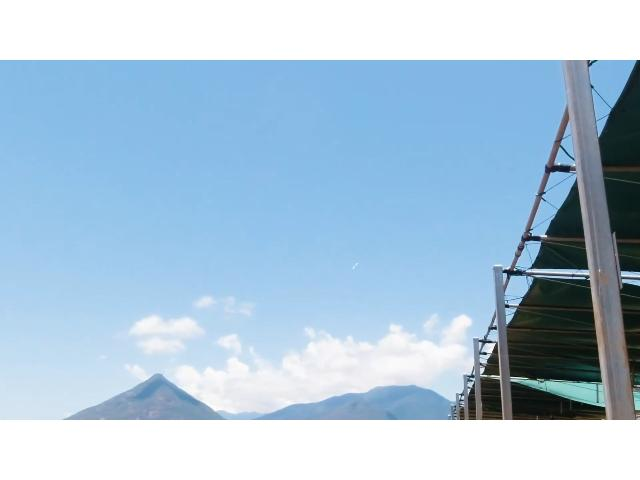Anti-Drone: (348, 255, 364, 275)
